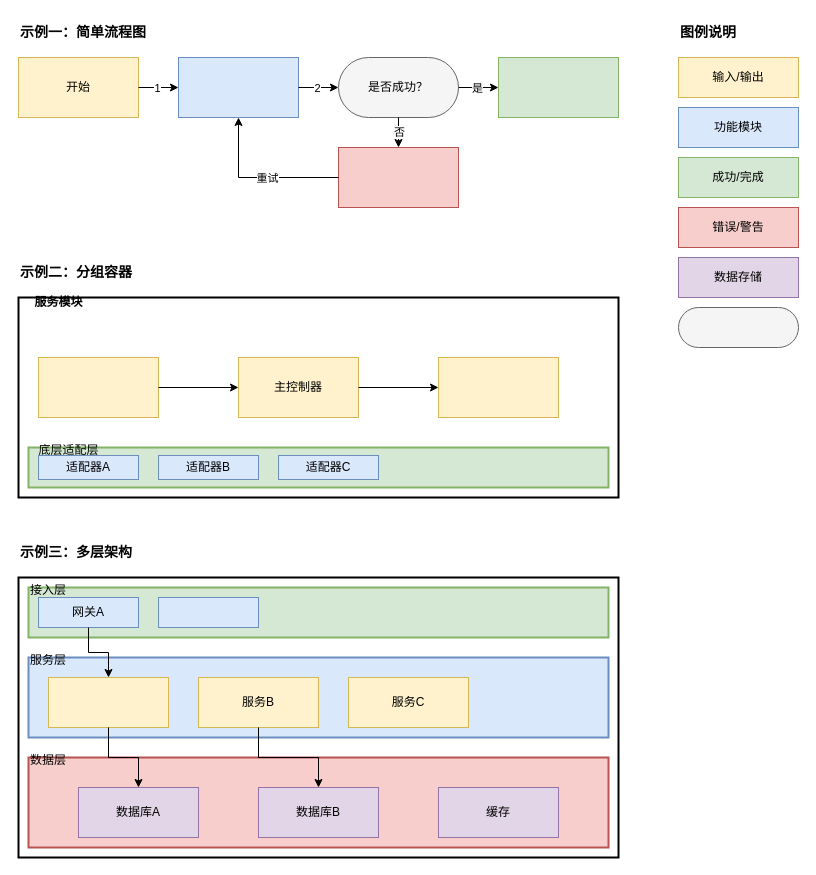
Image size: 816x875. Some labels were removed from this diagram. Each missing label, with the box of its shape:
判断节点: (678, 306, 798, 348)
完成: (498, 56, 618, 118)
数据处理: (178, 56, 298, 118)
服务A: (48, 676, 168, 728)
网关B: (158, 596, 258, 628)
输入: (38, 356, 158, 418)
输出: (438, 356, 558, 418)
错误处理: (338, 146, 458, 208)
